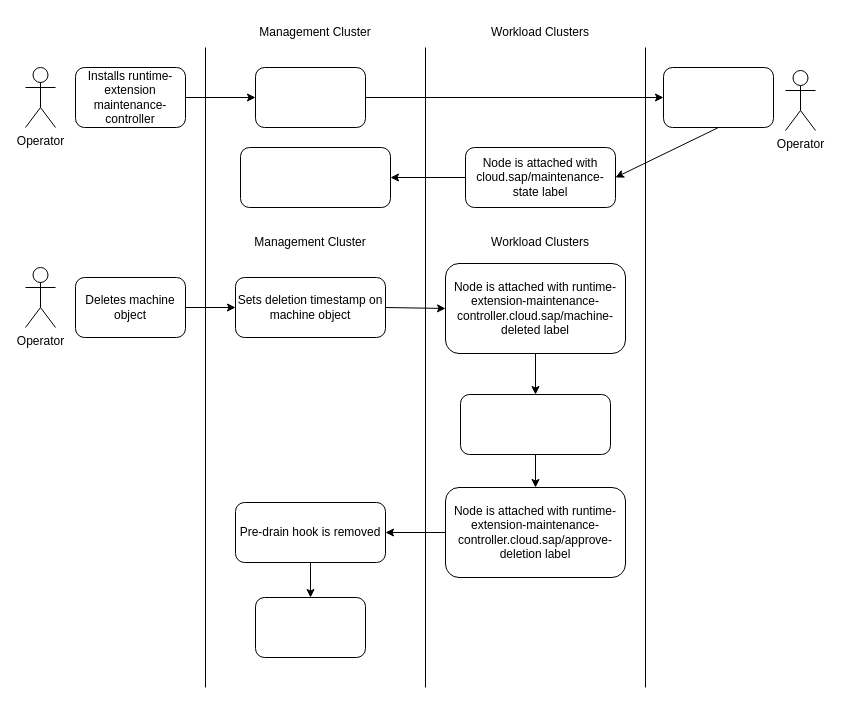
The diagram is 841 pixels wide and 706 high, and some of its shapes have lost their labels. Here are the shapes that lost their labels. From the top down, the centre of each, then its label:
(x=310, y=97): Enables machines for integration
(x=718, y=97): Installs maintenance-controller
(x=315, y=177): Enabled machine is attached with pre-drain hook
(x=535, y=424): maintenance-controller runs a maintenance profile
(x=310, y=627): Cluster-API decommisions machine
